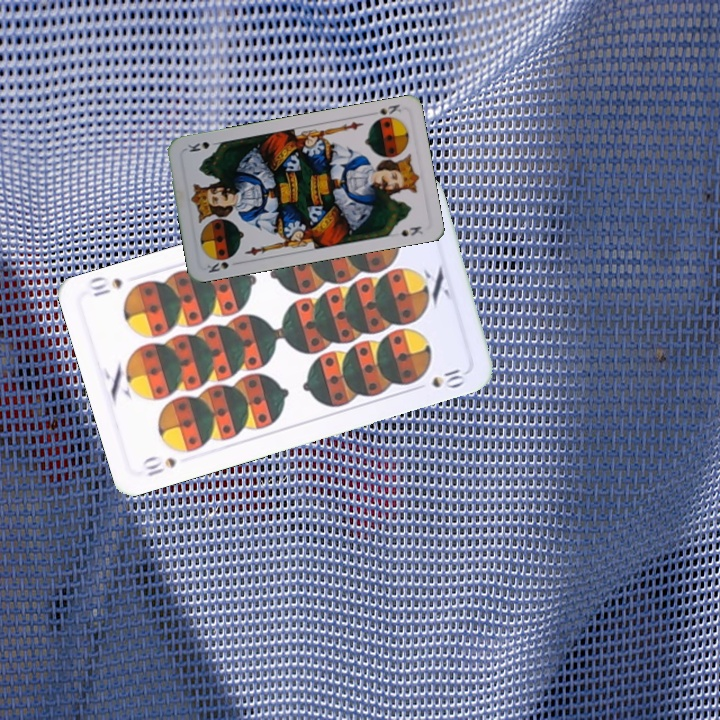S10: (138, 452, 180, 479)
SK: (366, 100, 403, 124), (203, 258, 231, 275)
